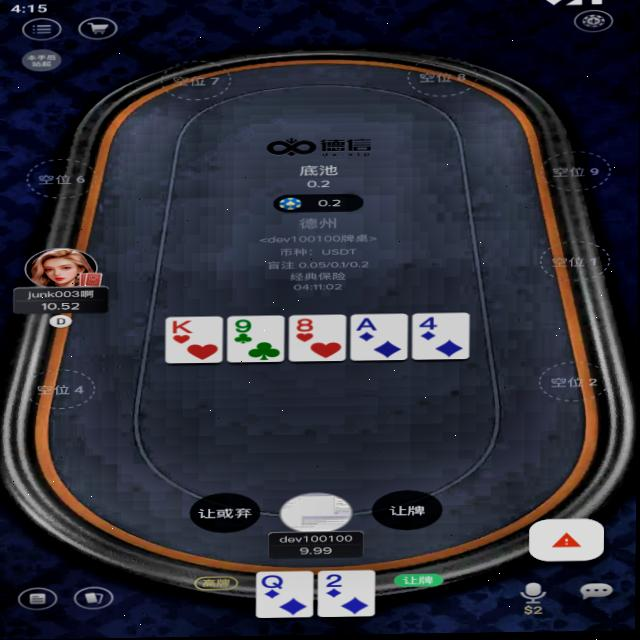2f: (323, 573, 346, 591)
4f: (418, 317, 440, 332)
8h: (295, 317, 317, 334)
9m: (232, 318, 255, 335)
Af: (356, 316, 379, 333)
Kh: (169, 318, 196, 336)
Qf: (261, 574, 287, 591)
